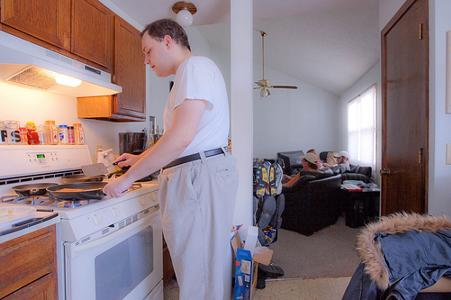person: (105, 23, 239, 300)
